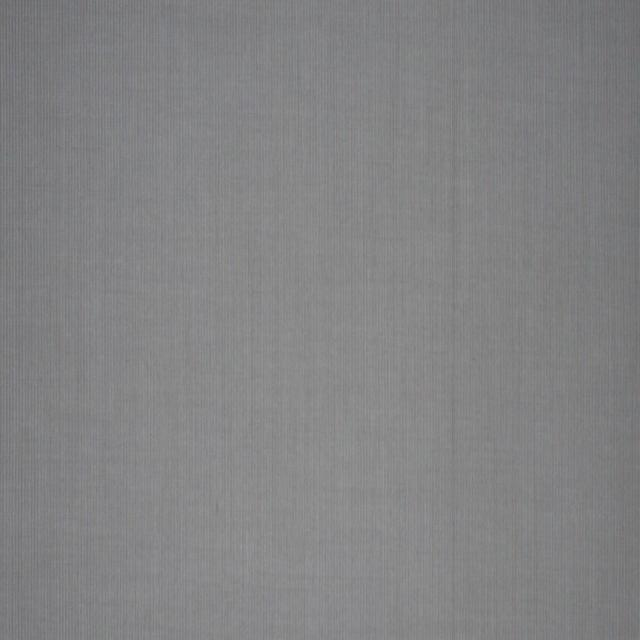dirty: (214, 500, 220, 518)
